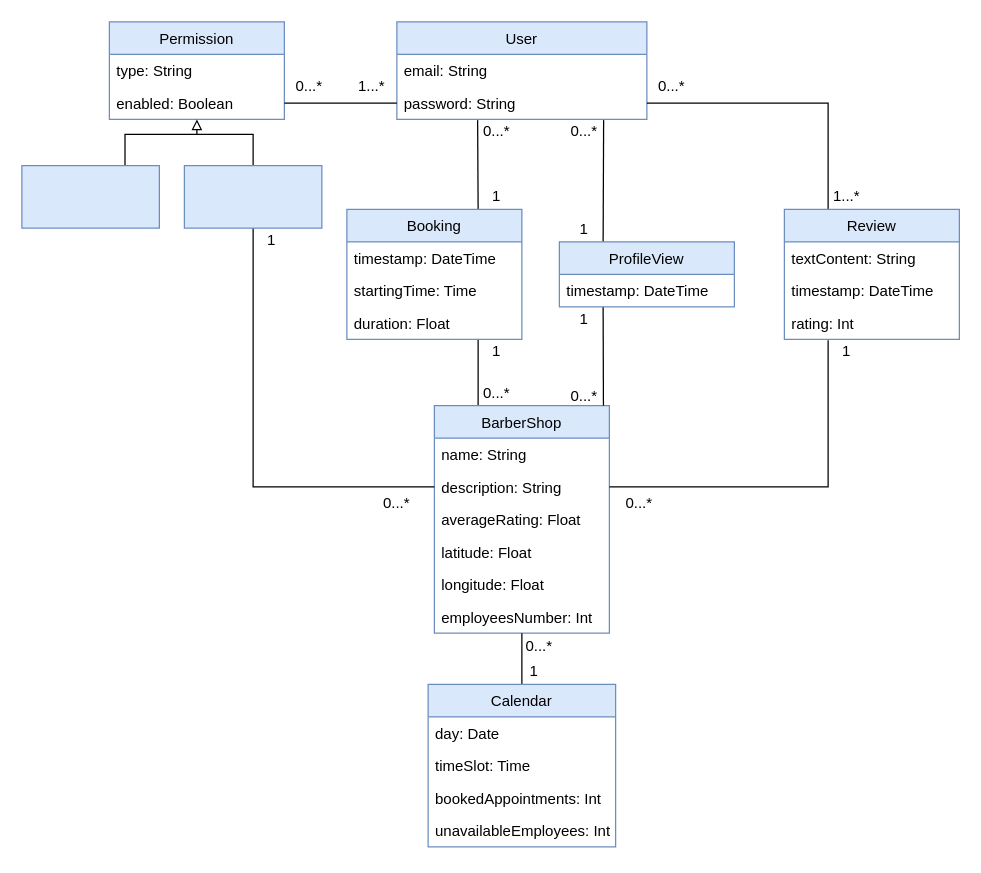
Image size: 981x873. Some labels were removed from this diagram. Here are the shapes that lost their labels. From the top down, the centre of each, then its label:
At (90,196): "GlobalPermission".
At (252,196): "ShopPermission".
